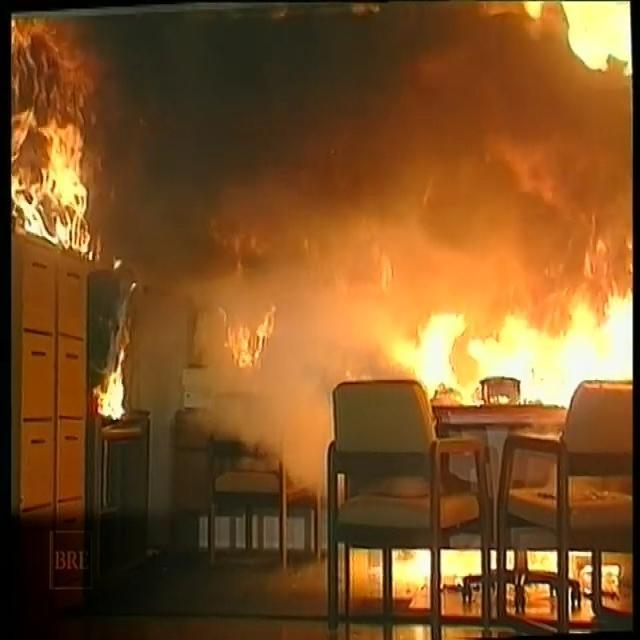Fire: (4, 0, 639, 398)
